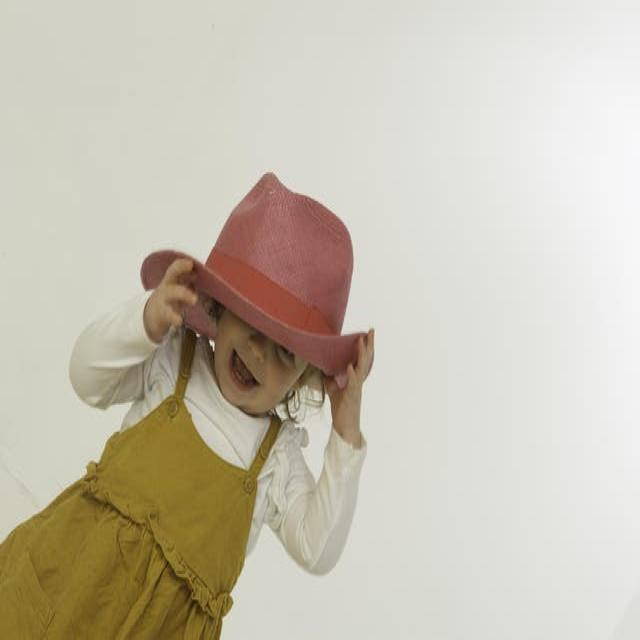hat: (141, 171, 372, 418)
